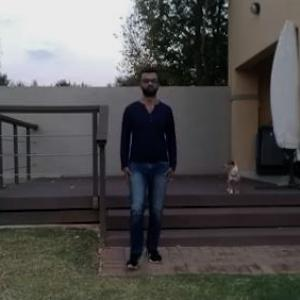follow: (117, 62, 169, 271)
